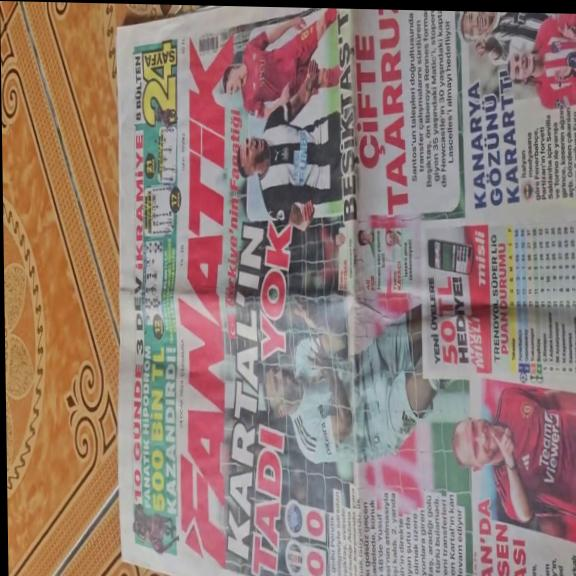Kertas: (111, 4, 393, 576), (346, 22, 576, 576)
